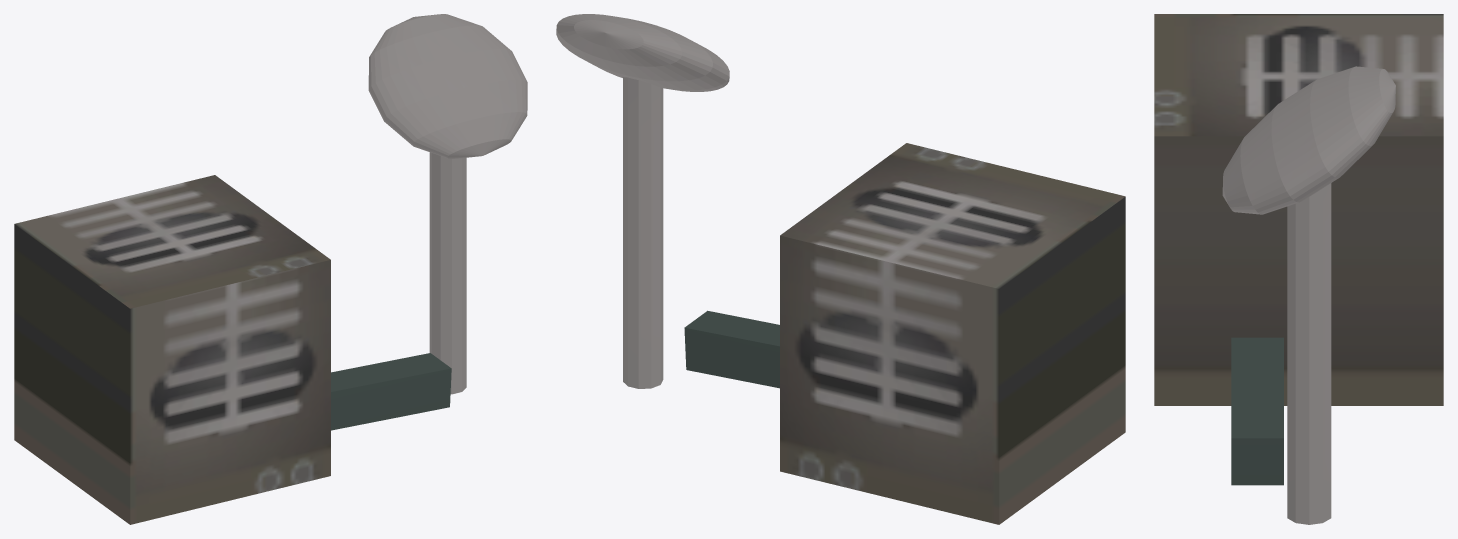
The model's file is Building_BurnoutMechlinkBooster.glb.
3 renders of one model, left to right at view 1: azimuth 30°, elevation 25°; view 2: azimuth 150°, elevation 25°; view 3: azimuth 270°, elevation 25°, orthographic. The views are drawn at different scales.
Parts seen in each view (by area): view 1: BurnoutMechlinkBooster; view 2: BurnoutMechlinkBooster; view 3: BurnoutMechlinkBooster.
Part boxes in pixels (x1,y1,x2,y2): BurnoutMechlinkBooster: [14, 14, 527, 524]; BurnoutMechlinkBooster: [556, 14, 1125, 524]; BurnoutMechlinkBooster: [1154, 14, 1443, 524].
Bounding box in the file's own units: 1.97 × 1.45 × 0.875.
1 material, 1 textured.
